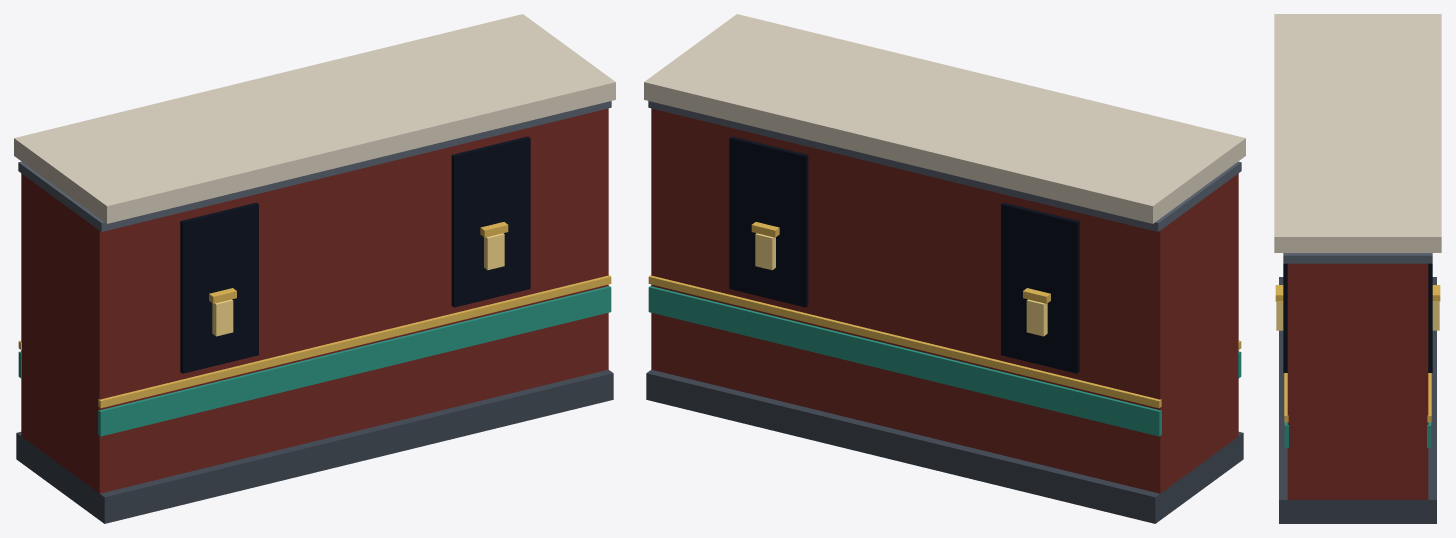
The model's file is bld_ug_wall_b.glb.
3 renders of one model, left to right at view 1: azimuth 30°, elevation 25°; view 2: azimuth 150°, elevation 25°; view 3: azimuth 270°, elevation 25°, orthographic. The views are drawn at different scales.
Visible parts, largest first — view 1: bld_ug_wall_b; view 2: bld_ug_wall_b; view 3: bld_ug_wall_b.
Boxes of the visible parts, x1,y1,x2,y2 form: bld_ug_wall_b: (14, 14, 615, 523); bld_ug_wall_b: (644, 14, 1245, 523); bld_ug_wall_b: (1274, 14, 1441, 523).
Bounding box in the file's own units: 6.02 × 3.6 × 1.9.
1 material, 1 textured.
